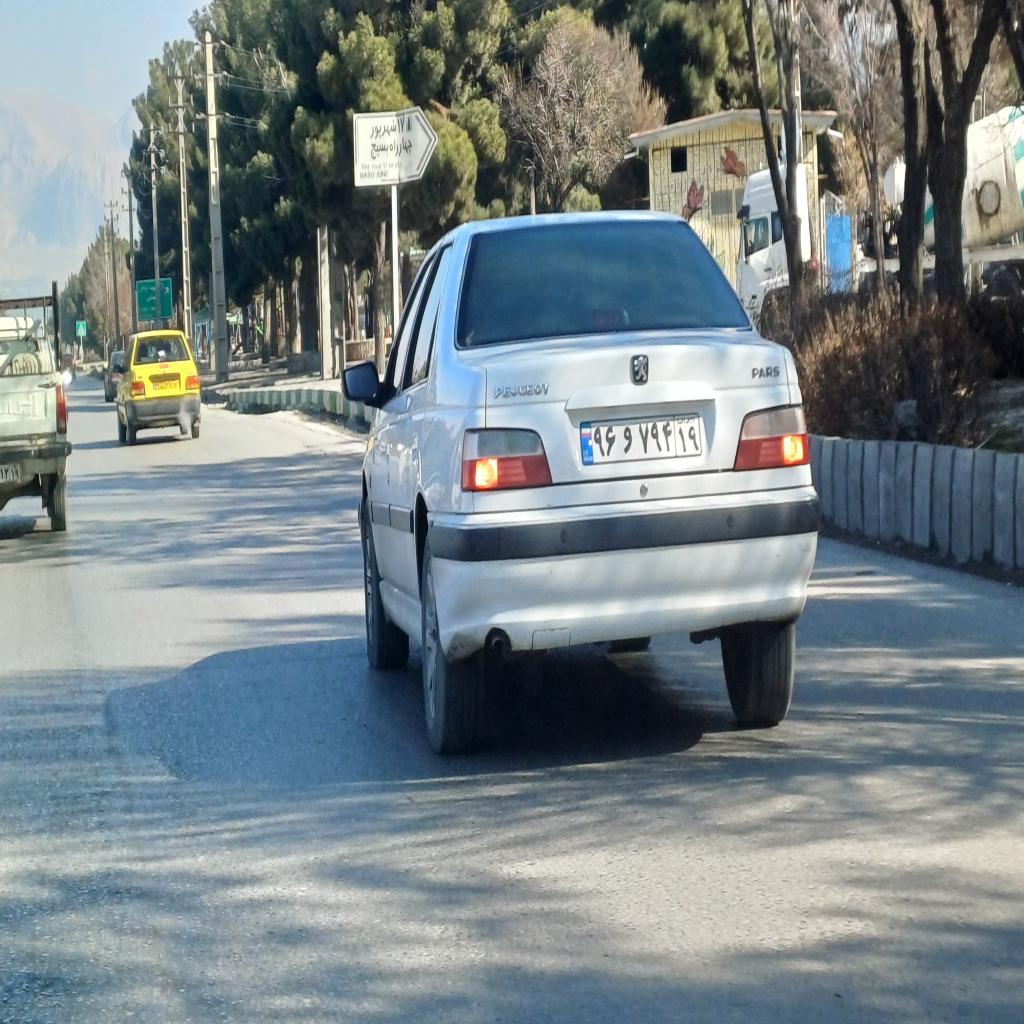Plates: (580, 412, 702, 466)
